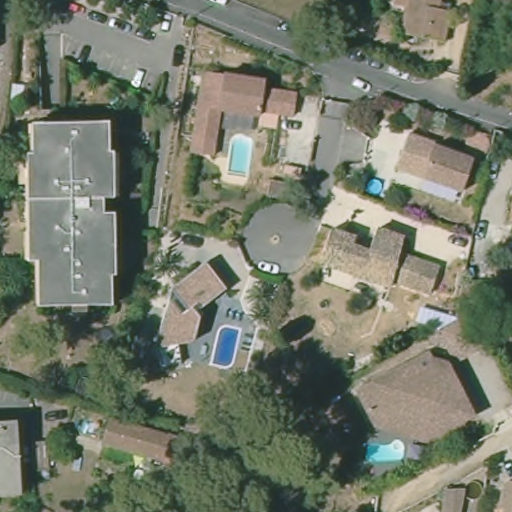pool: (206, 323, 248, 374), (221, 130, 257, 180), (355, 437, 411, 466), (363, 174, 390, 203)
